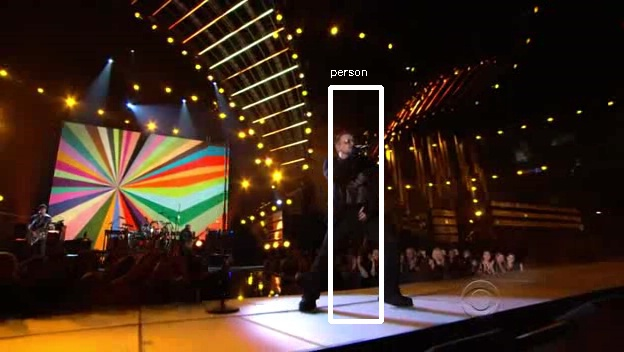person: (322, 132, 386, 249), (319, 132, 383, 249), (325, 132, 389, 249), (322, 129, 386, 246), (322, 135, 386, 252)
target_negative: (174, 84, 610, 160), (97, 275, 508, 343), (464, 175, 588, 326), (46, 199, 409, 250), (531, 108, 576, 322)
